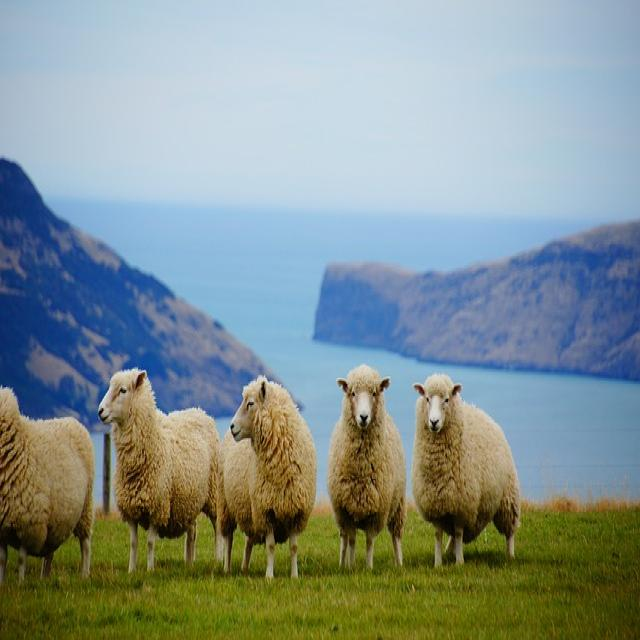goat: (99, 370, 231, 572), (410, 375, 522, 568), (219, 379, 318, 581), (0, 389, 96, 580), (328, 366, 407, 572)
